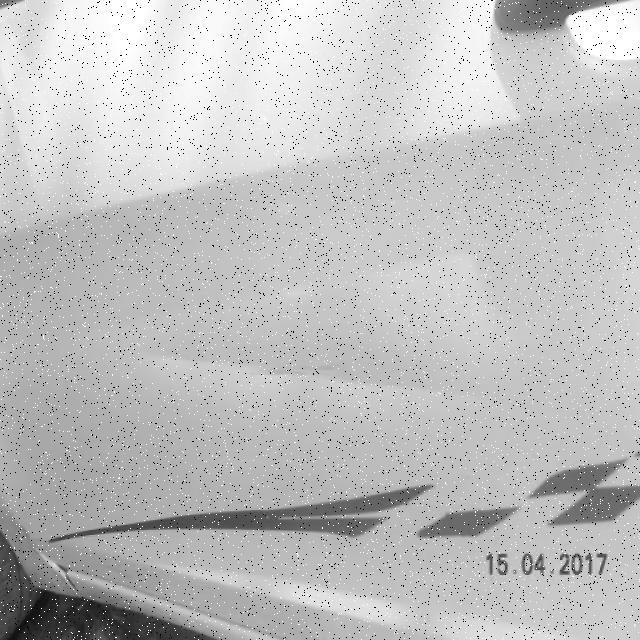car damage: (110, 239, 487, 336), (141, 356, 561, 411), (250, 363, 342, 379)
